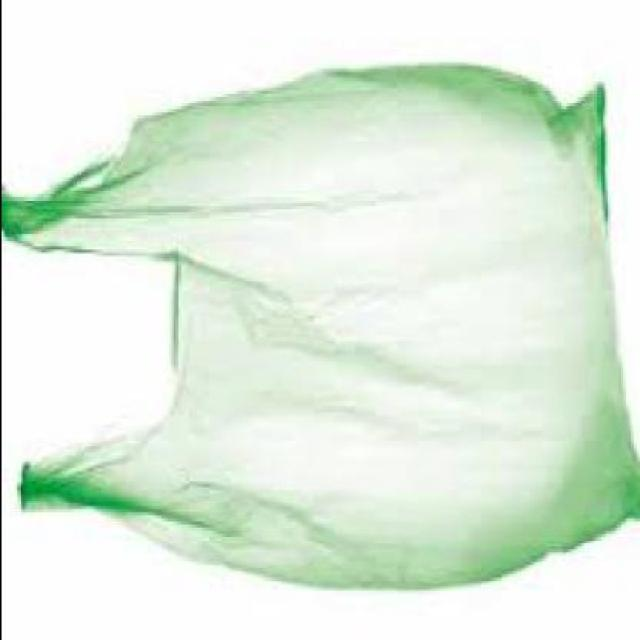plastic: (1, 64, 638, 596)
